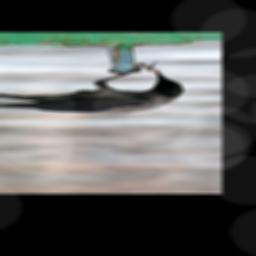Crow: (0, 67, 185, 114)
